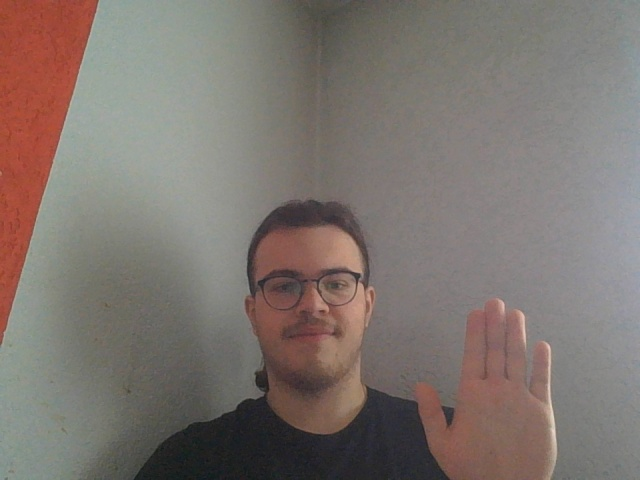Hello: (414, 297, 560, 480)
